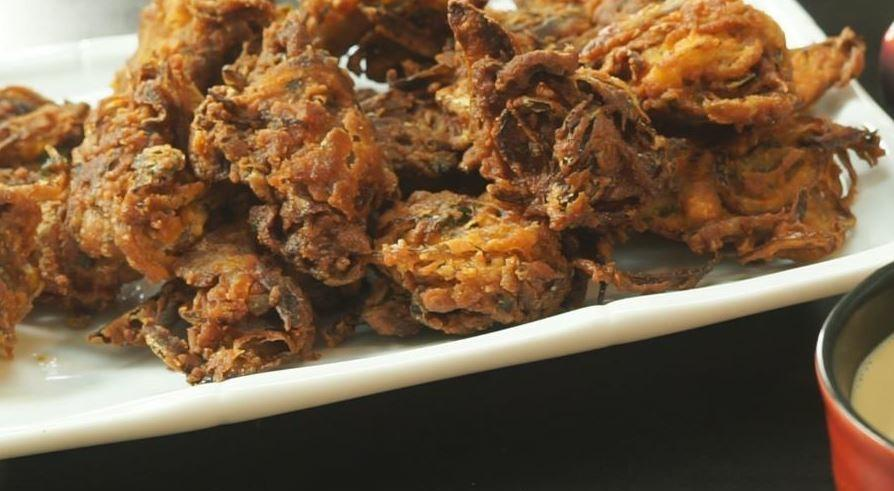Chai: (851, 331, 894, 441)
OnionPakoda: (0, 0, 894, 385)
